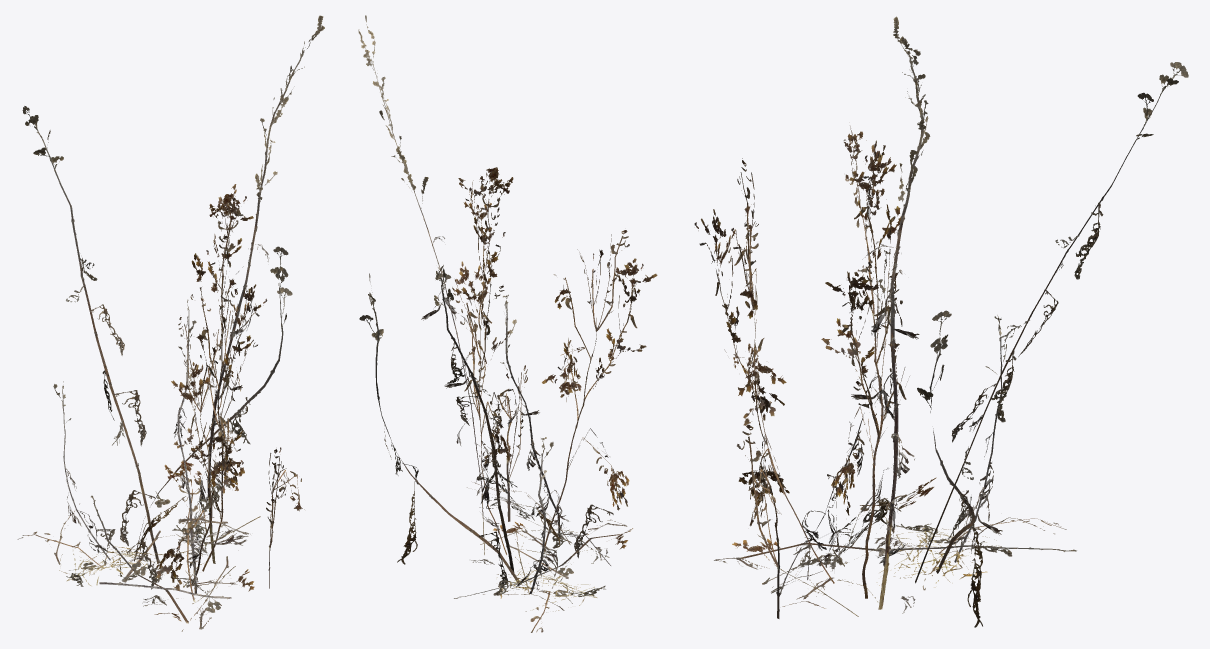
The model's file is desert_reed_1_6.FBX.
3 renders of one model, left to right at view 1: azimuth 30°, elevation 25°; view 2: azimuth 150°, elevation 25°; view 3: azimuth 270°, elevation 25°, orthographic. The views are drawn at different scales.
Visible parts, largest first — view 1: desert_reed_1_6; view 2: desert_reed_1_6; view 3: desert_reed_1_6.
Part boxes in pixels (bbox=[...]): desert_reed_1_6: bbox=[17, 15, 324, 631]; desert_reed_1_6: bbox=[358, 15, 657, 632]; desert_reed_1_6: bbox=[694, 16, 1188, 627].
Bounding box in the file's own units: 40.42 × 82.32 × 54.6.
1 material, 1 textured.
